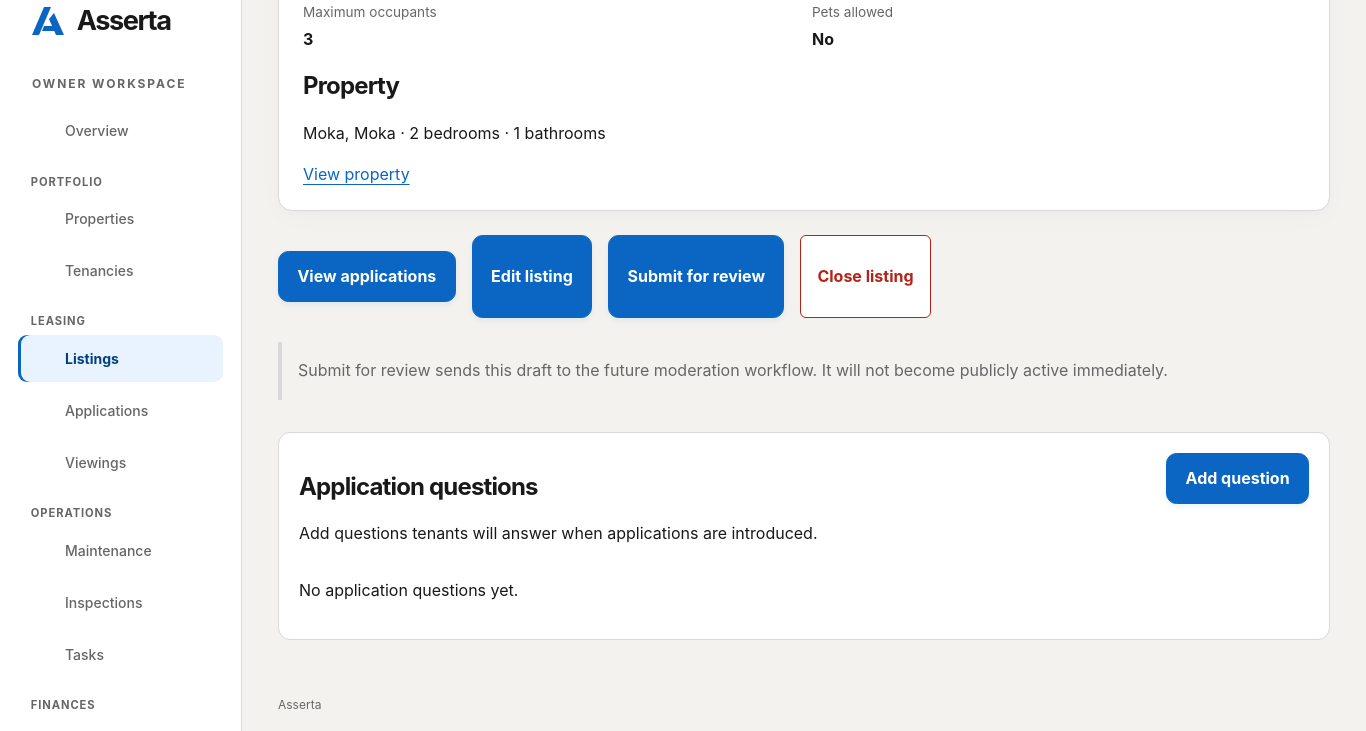
it: landlord application question management › shows field validation without sending an invalid question
(page scrolled)
Click the button "Add question": (1238, 478) x1=1166 y1=453 x2=1309 y2=504
(page scrolled)
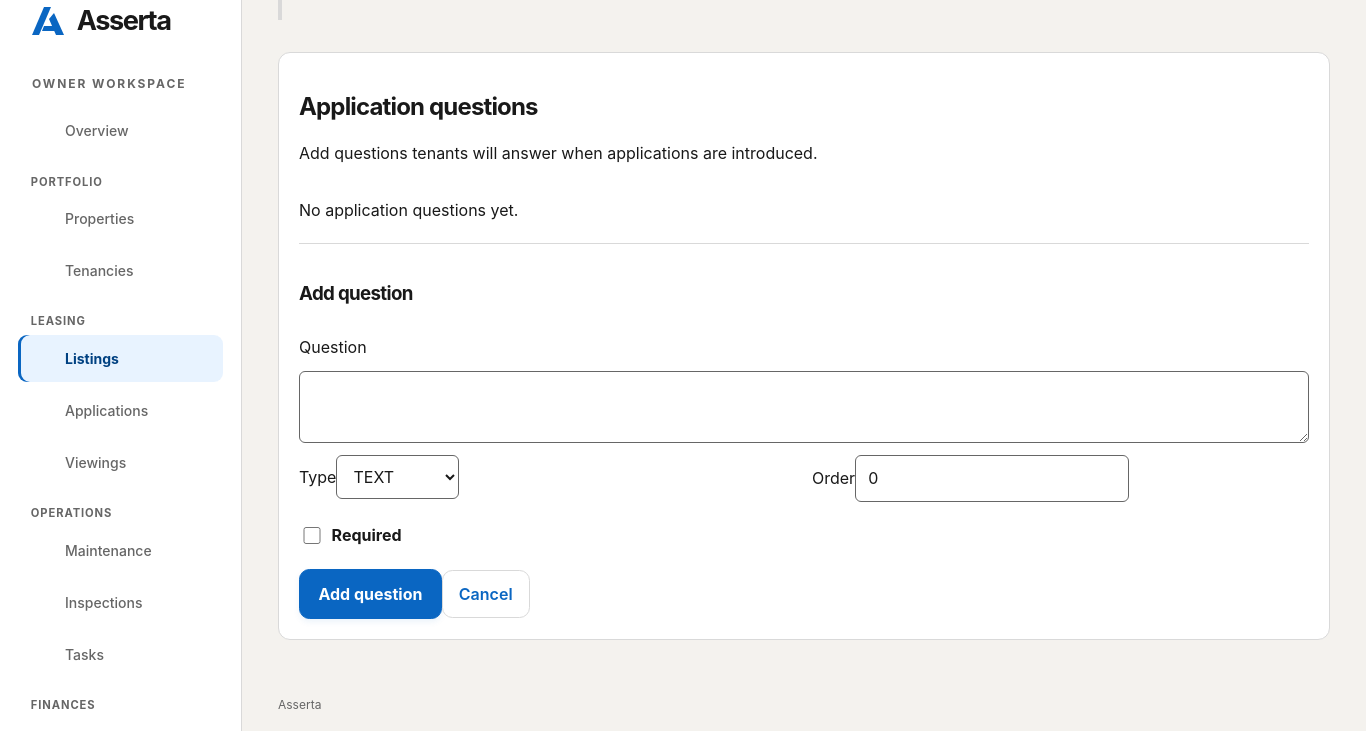
Click the button "Add question": (370, 594) x1=299 y1=569 x2=442 y2=619
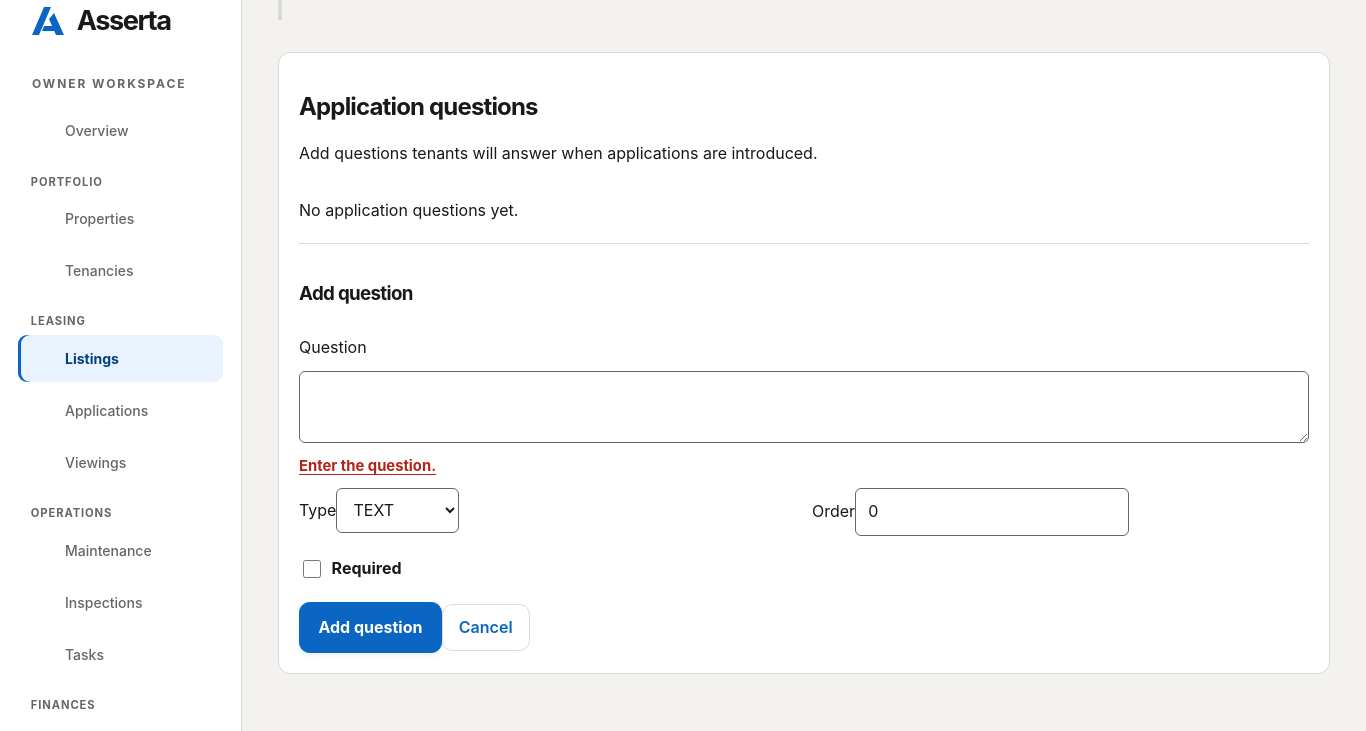
expect the text "Enter the question." is shown: met, box x1=299 y1=457 x2=436 y2=475
